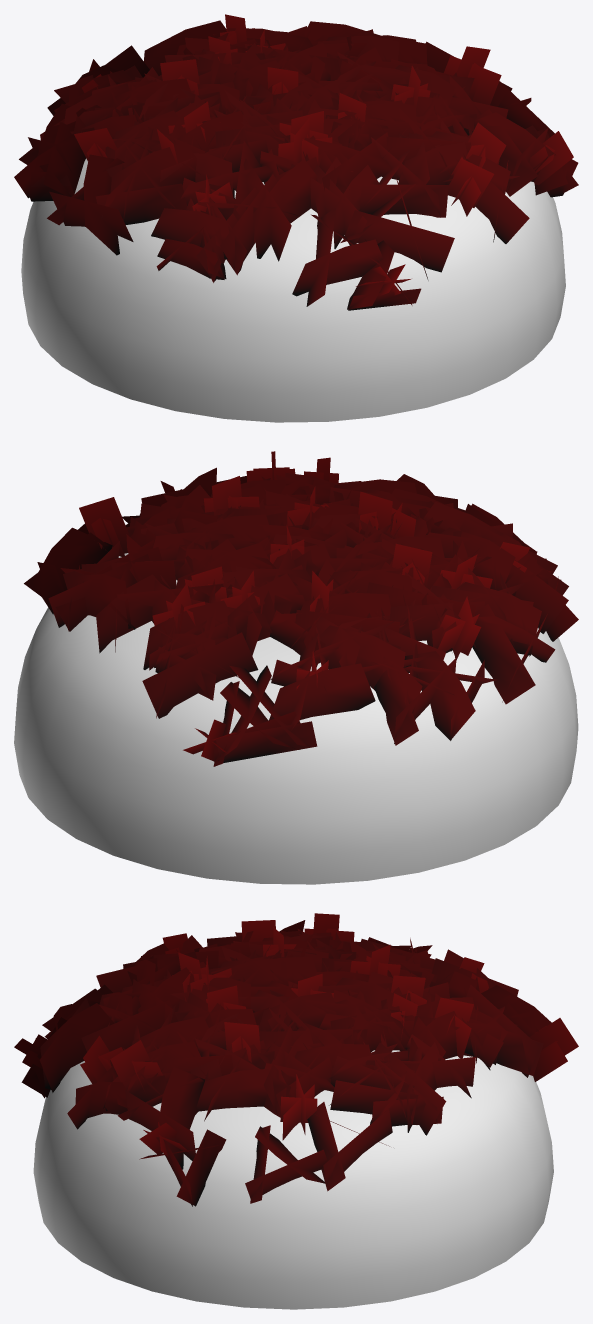
Rendered from msh_ground_test.fbx.
The picture shows the model from 3 angles, top to bottom: view 1: azimuth 30°, elevation 25°; view 2: azimuth 150°, elevation 25°; view 3: azimuth 270°, elevation 25°; orthographic projection. The views are drawn at different scales.
Parts seen in each view (by area): view 1: msh_ground_test, msh_ground_test|msh_grass_1|Dupli|55, msh_ground_test|msh_grass_1|Dupli|71, msh_ground_test|msh_grass_1|Dupli|50, msh_ground_test|msh_grass_1|Dupli|46, msh_ground_test|msh_grass_1|Dupli|43, msh_ground_test|msh_grass_1|Dupli|77, msh_ground_test|msh_grass_1|Dupli|31, msh_ground_test|msh_grass_1|Dupli|65, msh_ground_test|msh_grass_1|Dupli|70, msh_ground_test|msh_grass_1|Dupli|44, msh_ground_test|msh_grass_1|Dupli|60 (+71 smaller); view 2: msh_ground_test, msh_ground_test|msh_grass_1|Dupli|87, msh_ground_test|msh_grass_1|Dupli|71, msh_ground_test|msh_grass_1|Dupli|99, msh_ground_test|msh_grass_1|Dupli|90, msh_ground_test|msh_grass_1|Dupli|77, msh_ground_test|msh_grass_1|Dupli|14, msh_ground_test|msh_grass_1|Dupli|80, msh_ground_test|msh_grass_1|Dupli|10, msh_ground_test|msh_grass_1|Dupli|85, msh_ground_test|msh_grass_1|Dupli|58, msh_ground_test|msh_grass_1|Dupli|7 (+61 smaller); view 3: msh_ground_test, msh_ground_test|msh_grass_1|Dupli|31, msh_ground_test|msh_grass_1|Dupli|46, msh_ground_test|msh_grass_1|Dupli|14, msh_ground_test|msh_grass_1|Dupli|19, msh_ground_test|msh_grass_1|Dupli|99, msh_ground_test|msh_grass_1|Dupli|24, msh_ground_test|msh_grass_1|Dupli|10, msh_ground_test|msh_grass_1|Dupli|43, msh_ground_test|msh_grass_1|Dupli|25, msh_ground_test|msh_grass_1|Dupli|37, msh_ground_test|msh_grass_1|Dupli|13 (+57 smaller).
Boxes of the visible parts, x1=… form: msh_ground_test: x1=21, y1=158, x2=565, y2=422; msh_ground_test|msh_grass_1|Dupli|55: x1=234, y1=158, x2=317, y2=261; msh_ground_test|msh_grass_1|Dupli|71: x1=47, y1=154, x2=133, y2=255; msh_ground_test|msh_grass_1|Dupli|50: x1=292, y1=208, x2=383, y2=306; msh_ground_test|msh_grass_1|Dupli|46: x1=340, y1=178, x2=454, y2=280; msh_ground_test|msh_grass_1|Dupli|43: x1=359, y1=137, x2=448, y2=217; msh_ground_test|msh_grass_1|Dupli|77: x1=14, y1=121, x2=85, y2=201; msh_ground_test|msh_grass_1|Dupli|31: x1=464, y1=109, x2=555, y2=196; msh_ground_test|msh_grass_1|Dupli|65: x1=95, y1=144, x2=187, y2=224; msh_ground_test|msh_grass_1|Dupli|70: x1=110, y1=128, x2=200, y2=220; msh_ground_test|msh_grass_1|Dupli|44: x1=304, y1=132, x2=399, y2=193; msh_ground_test|msh_grass_1|Dupli|60: x1=151, y1=178, x2=229, y2=258; msh_ground_test: x1=14, y1=553, x2=578, y2=884; msh_ground_test|msh_grass_1|Dupli|87: x1=269, y1=632, x2=375, y2=731; msh_ground_test|msh_grass_1|Dupli|71: x1=472, y1=604, x2=555, y2=704; msh_ground_test|msh_grass_1|Dupli|99: x1=142, y1=619, x2=258, y2=718; msh_ground_test|msh_grass_1|Dupli|90: x1=216, y1=665, x2=317, y2=762; msh_ground_test|msh_grass_1|Dupli|77: x1=403, y1=651, x2=497, y2=740; msh_ground_test|msh_grass_1|Dupli|14: x1=24, y1=527, x2=112, y2=614; msh_ground_test|msh_grass_1|Dupli|80: x1=373, y1=657, x2=456, y2=745; msh_ground_test|msh_grass_1|Dupli|10: x1=48, y1=554, x2=149, y2=629; msh_ground_test|msh_grass_1|Dupli|85: x1=311, y1=608, x2=405, y2=690; msh_ground_test|msh_grass_1|Dupli|58: x1=426, y1=527, x2=524, y2=590; msh_ground_test|msh_grass_1|Dupli|7: x1=95, y1=574, x2=159, y2=653; msh_ground_test: x1=33, y1=1050, x2=553, y2=1309; msh_ground_test|msh_grass_1|Dupli|31: x1=117, y1=1067, x2=204, y2=1169; msh_ground_test|msh_grass_1|Dupli|46: x1=39, y1=998, x2=114, y2=1092; msh_ground_test|msh_grass_1|Dupli|14: x1=307, y1=1102, x2=392, y2=1191; msh_ground_test|msh_grass_1|Dupli|19: x1=245, y1=1125, x2=327, y2=1203; msh_ground_test|msh_grass_1|Dupli|99: x1=464, y1=984, x2=543, y2=1077; msh_ground_test|msh_grass_1|Dupli|24: x1=196, y1=1050, x2=269, y2=1121; msh_ground_test|msh_grass_1|Dupli|10: x1=365, y1=1042, x2=452, y2=1135; msh_ground_test|msh_grass_1|Dupli|43: x1=81, y1=1000, x2=178, y2=1051; msh_ground_test|msh_grass_1|Dupli|25: x1=139, y1=1129, x2=226, y2=1206; msh_ground_test|msh_grass_1|Dupli|37: x1=67, y1=1060, x2=128, y2=1129; msh_ground_test|msh_grass_1|Dupli|13: x1=329, y1=1041, x2=418, y2=1124.
Size of the model in its own units: 204 by 217 by 95.9.
